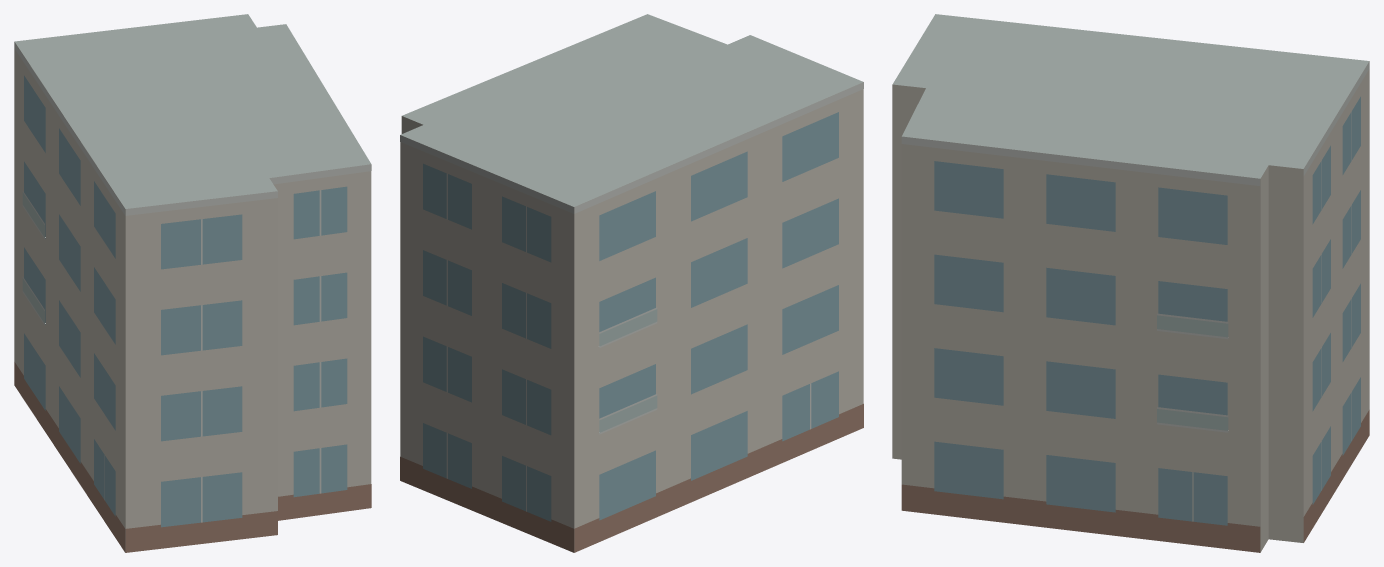
File: survey-upis-32969733.glb
3 views of the same model, side by side, from view 1: azimuth 30°, elevation 25°; view 2: azimuth 150°, elevation 25°; view 3: azimuth 270°, elevation 25° (orthographic). The views are drawn at different scales.
Parts seen in each view (by area): view 1: survey-upis-32969733.tmp; view 2: survey-upis-32969733.tmp; view 3: survey-upis-32969733.tmp.
Boxes of the visible parts, x1,y1,x2,y2 form: survey-upis-32969733.tmp: (14,14,371,552); survey-upis-32969733.tmp: (400,14,863,552); survey-upis-32969733.tmp: (892,14,1369,552).
Size of the model in its own units: 11.53 by 12.2 by 14.11.
